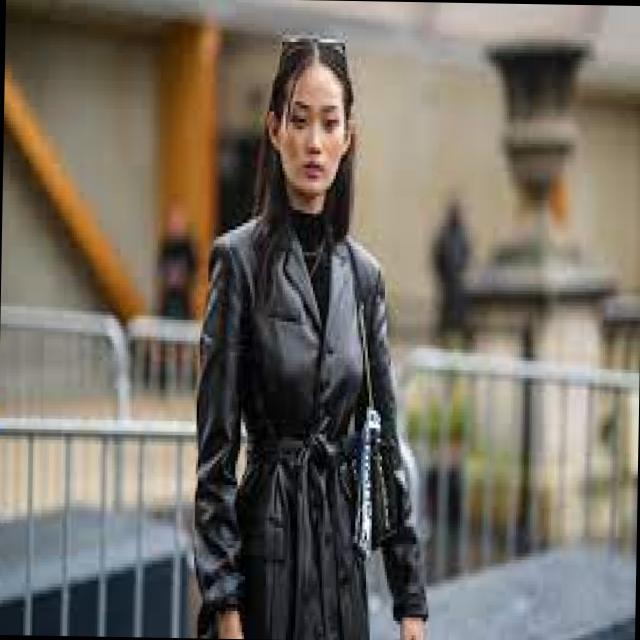Jacket: (178, 213, 445, 640)
